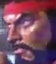ryu: (3, 0, 52, 63)
